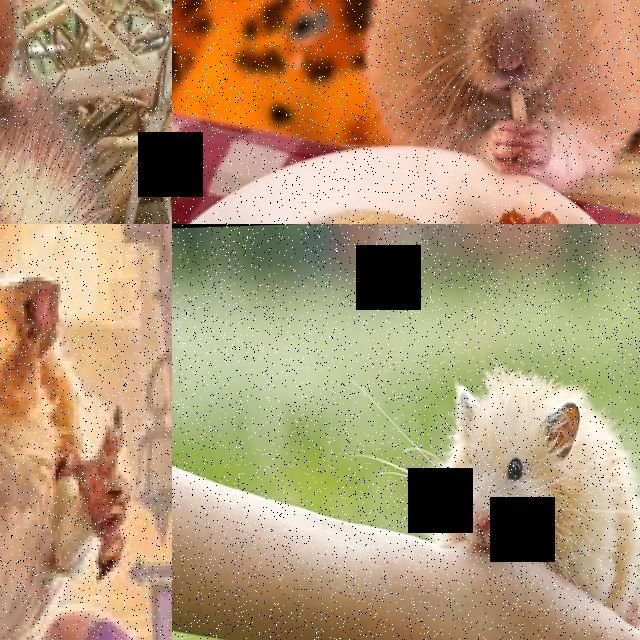hamster: (420, 361, 640, 629), (0, 224, 138, 640), (357, 0, 640, 181), (0, 0, 157, 224)
